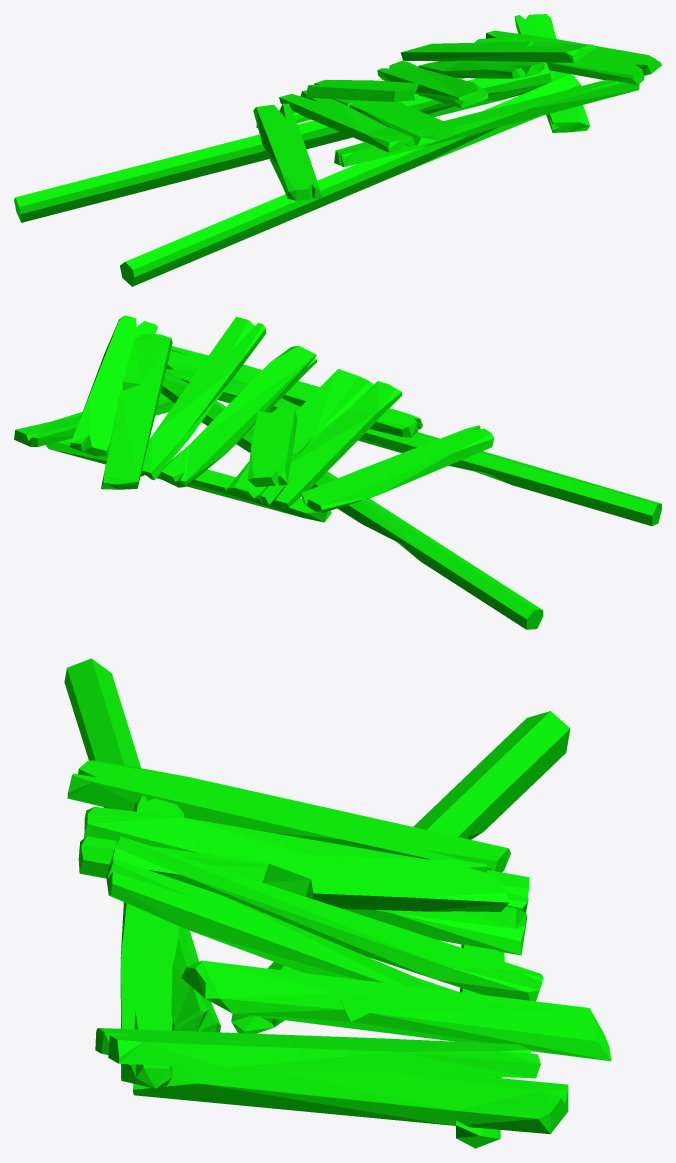
The model's file is SM_Palisade_Gallery_3m_Broken.fbx.
3 renders of one model, top to bottom at view 1: azimuth 30°, elevation 25°; view 2: azimuth 150°, elevation 25°; view 3: azimuth 270°, elevation 25°, orthographic. The views are drawn at different scales.
Visible parts, largest first — view 1: palisade-gallery-3m-broken; view 2: palisade-gallery-3m-broken; view 3: palisade-gallery-3m-broken.
Part boxes in pixels (left/top/right/bottom): palisade-gallery-3m-broken: left=14, top=14, right=661, bottom=286; palisade-gallery-3m-broken: left=14, top=315, right=661, bottom=629; palisade-gallery-3m-broken: left=64, top=658, right=611, bottom=1148.
Bounding box in the file's own units: 5.4 × 1.31 × 2.4.
